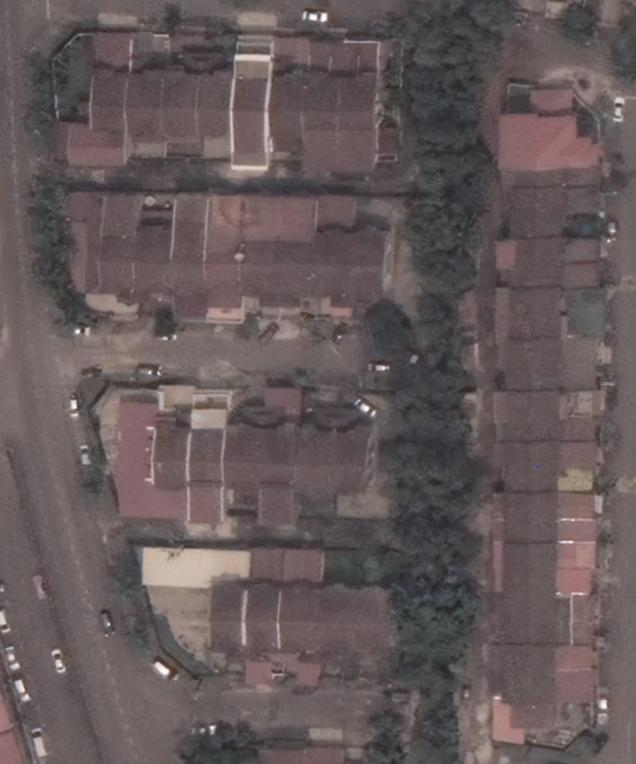building: (108, 402, 190, 524), (62, 190, 142, 312), (496, 85, 605, 172), (318, 192, 385, 308), (166, 192, 212, 320), (260, 386, 302, 526), (65, 74, 129, 165), (134, 190, 178, 315), (210, 194, 245, 325), (233, 57, 271, 166), (282, 196, 318, 308), (245, 195, 281, 304), (336, 74, 376, 171), (189, 428, 226, 526), (295, 429, 337, 513), (302, 70, 337, 170), (128, 72, 166, 160), (222, 429, 261, 509), (353, 585, 394, 659), (164, 71, 199, 156), (313, 582, 353, 656), (270, 69, 304, 155), (206, 581, 246, 653), (200, 74, 233, 159), (245, 584, 284, 655), (335, 421, 374, 489), (281, 581, 316, 656), (557, 642, 595, 708), (559, 290, 606, 341), (564, 173, 601, 231), (563, 236, 605, 287), (561, 340, 603, 390), (558, 545, 598, 596), (559, 392, 601, 440), (557, 493, 596, 542), (559, 441, 595, 493)
